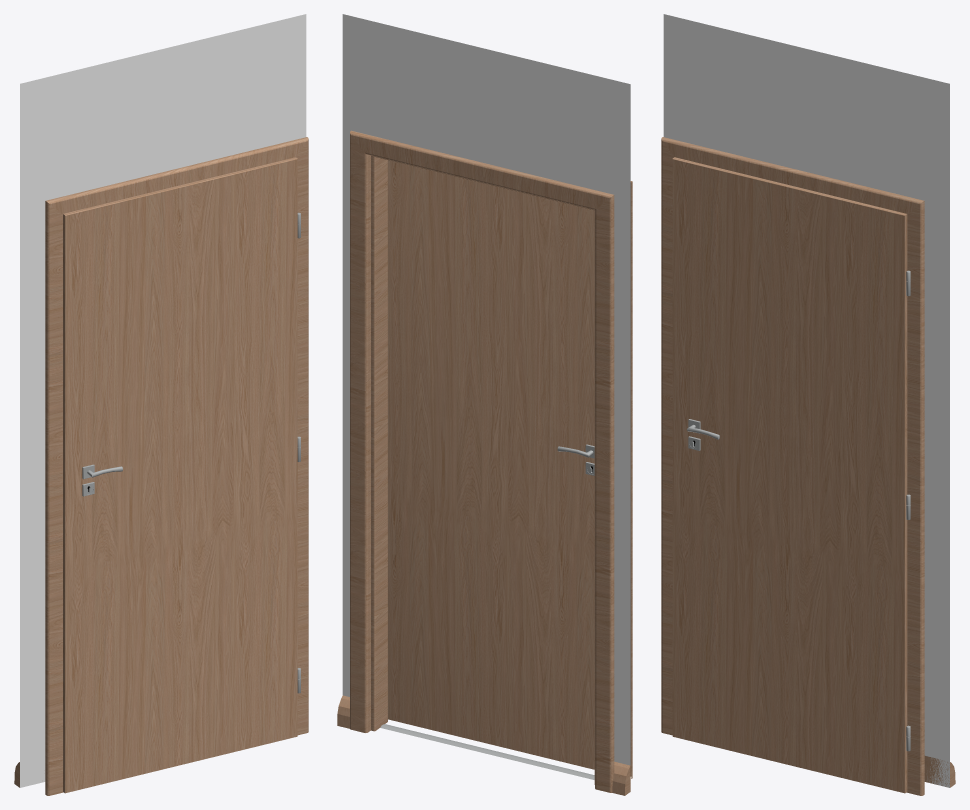
File: door01.glb
3 views of the same model, side by side, from view 1: azimuth 30°, elevation 25°; view 2: azimuth 150°, elevation 25°; view 3: azimuth 330°, elevation 25° (orthographic).
Visible parts, largest first — view 1: dvere, Plane, ram; view 2: dvere, Plane, ram, Cube; view 3: dvere, Plane, ram, Cube.
Part boxes in pixels (x1,y1,x2,y2): dvere: (63, 157, 300, 793); Plane: (20, 14, 306, 787); ram: (45, 137, 308, 795); dvere: (388, 160, 594, 769); Plane: (342, 14, 630, 765); ram: (350, 130, 632, 792); Cube: (337, 695, 630, 795); dvere: (672, 157, 910, 793); Plane: (663, 14, 949, 787); ram: (661, 137, 924, 795); Cube: (924, 756, 955, 787).
Size of the model in its own units: 2 by 4.7 by 0.3693.
5 materials, 2 textured.
